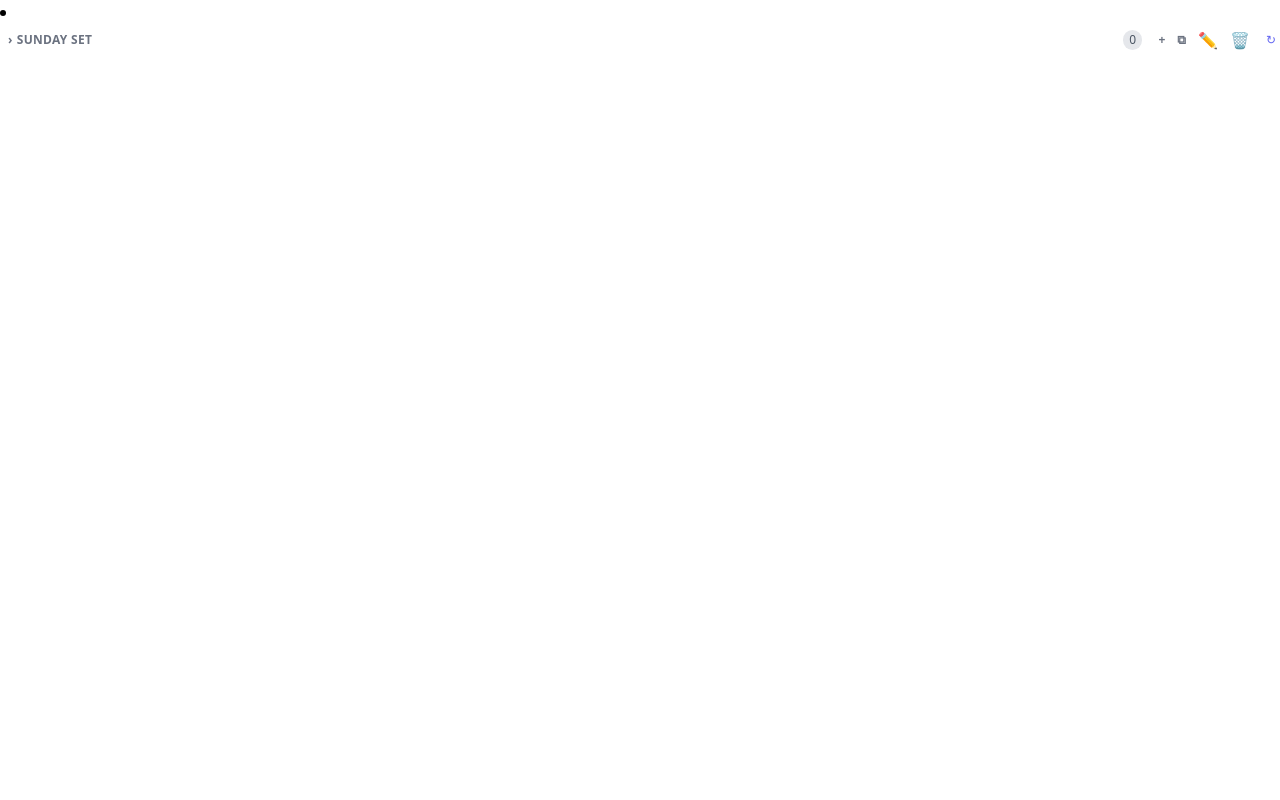
opens ConflictPickerModal when refresh has conflicts
This screenshot has width=1280, height=800.
Click the button named "check for updates".
click(1271, 40)  # box [1262, 28, 1279, 52]
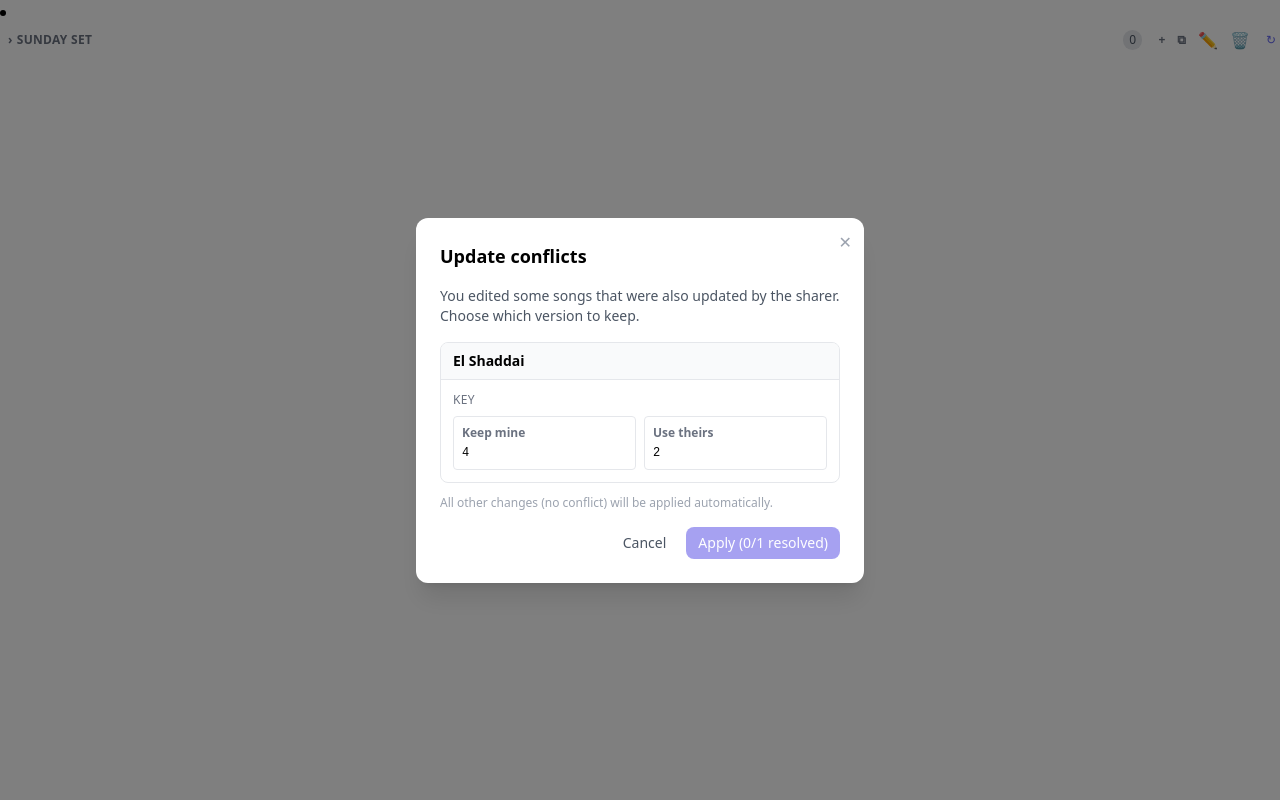
Expected: the text "El Shaddai" is shown, [441, 342, 839, 380]
Expected: the text "Key" is shown, [453, 390, 475, 408]
Expected: the button "Apply (0/1 resolved)" is shown, [686, 526, 840, 558]
